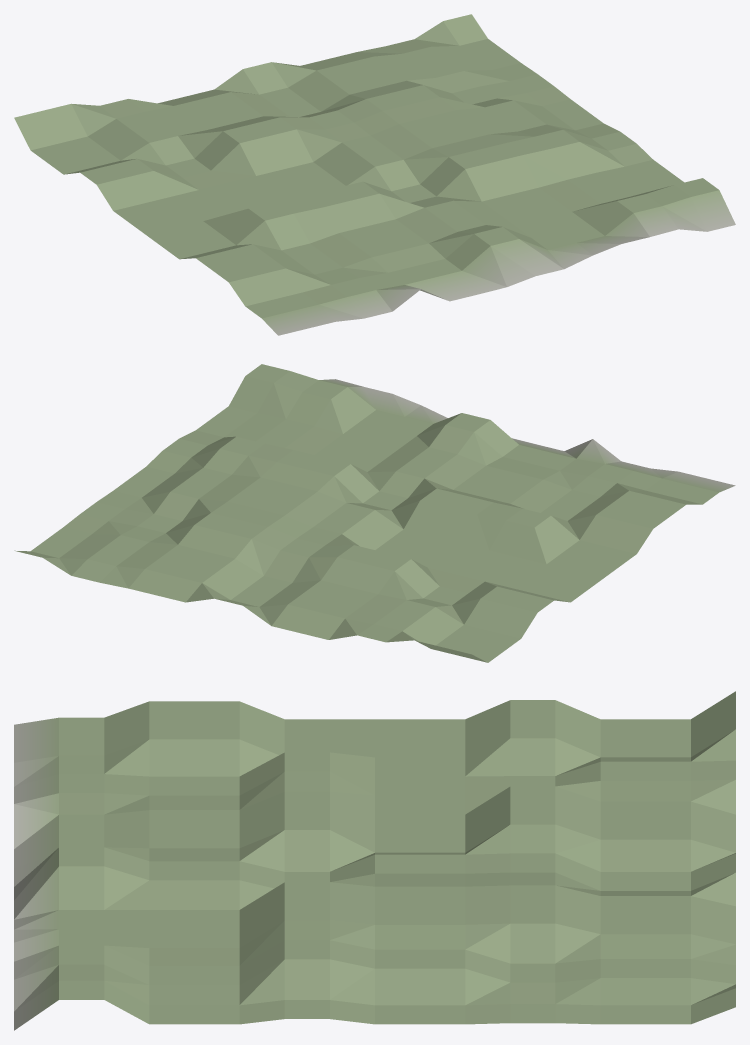
The picture shows the model from 3 angles, top to bottom: view 1: azimuth 30°, elevation 25°; view 2: azimuth 150°, elevation 25°; view 3: azimuth 270°, elevation 25°; orthographic projection. The views are drawn at different scales.
Bounding box in the file's own units: 32 × 2.15 × 32.
